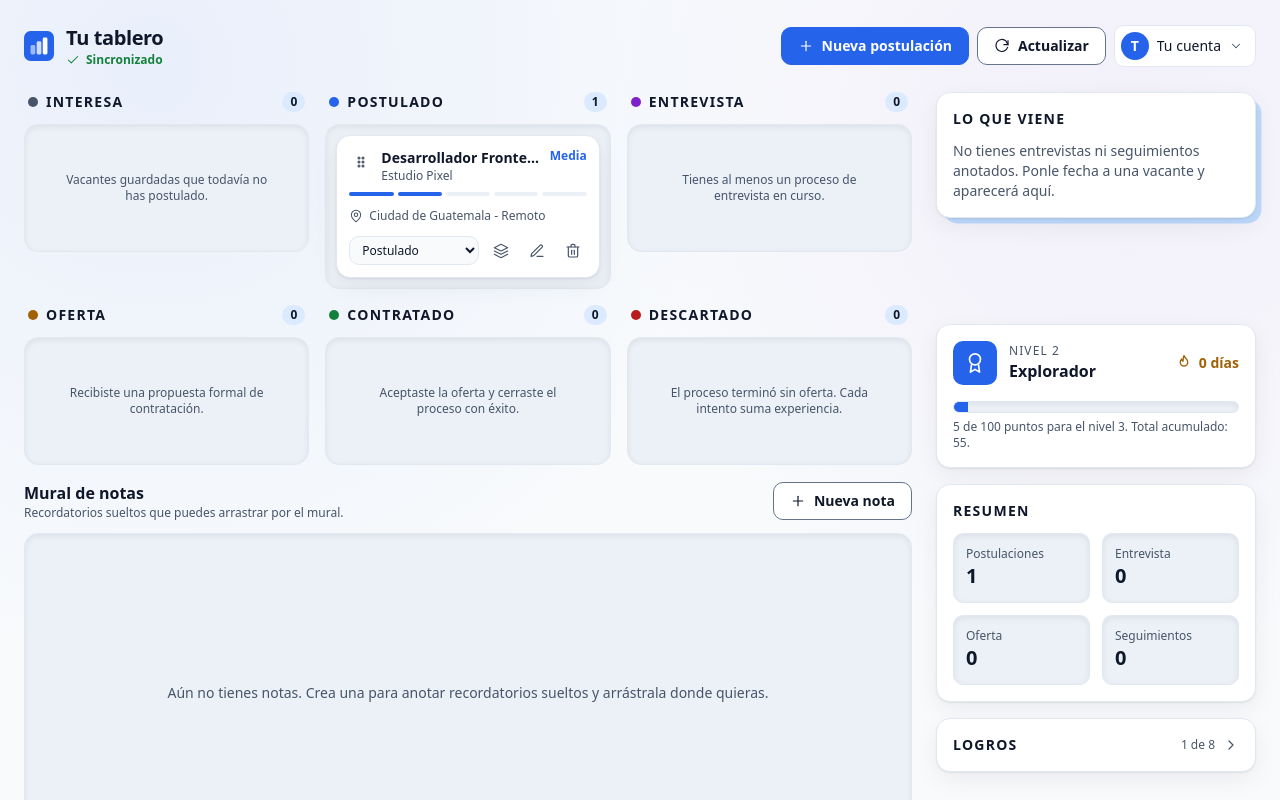
it: BoardWorkspace (integracion) › crea una nota en el mural y la muestra
Check: the heading "Desarrollador Frontend" is shown, box [381,148,542,168]
Check: the text "Aún no tienes notas" is shown, box [168,683,768,702]
Click the button "Nueva nota". click: (842, 501)
box: [773,482,912,520]
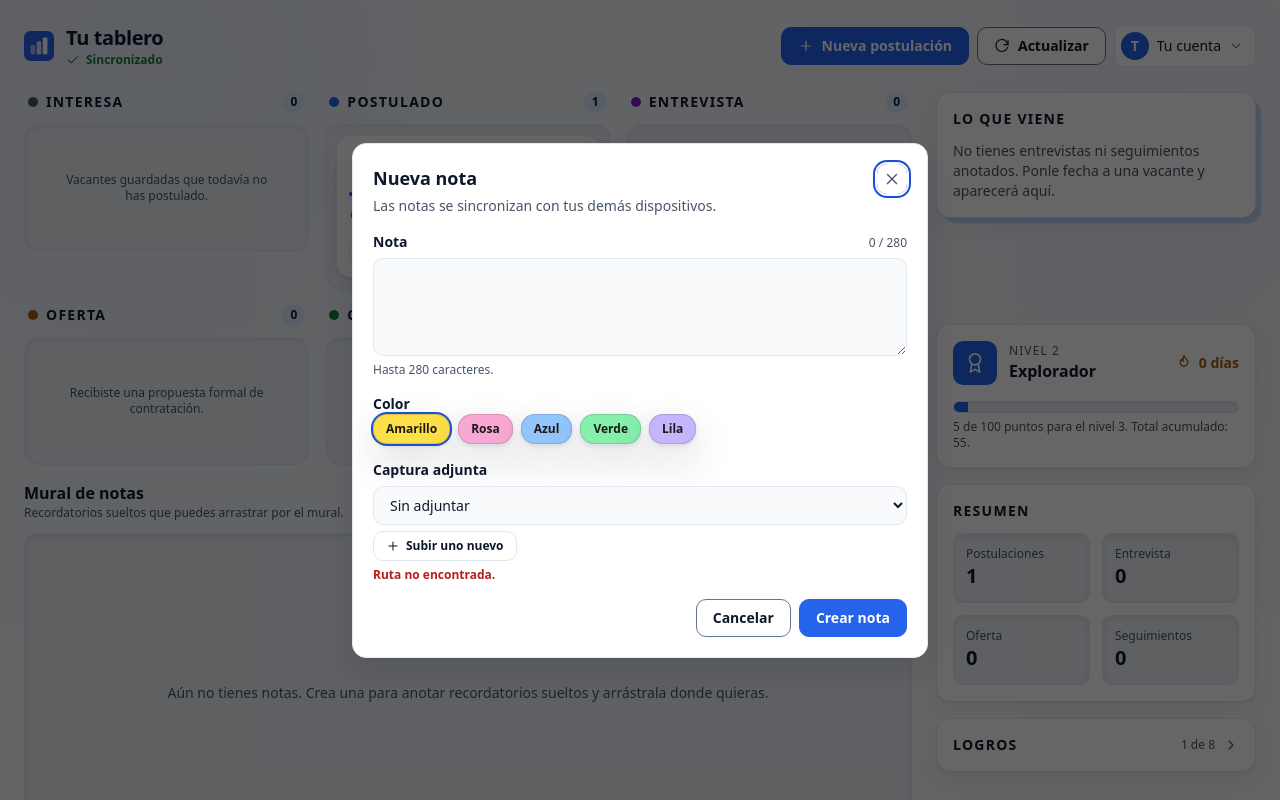
Type "Preparar portafolio" into the text box labelled "Nota". click: (640, 306)
box: [373,258,907,356]
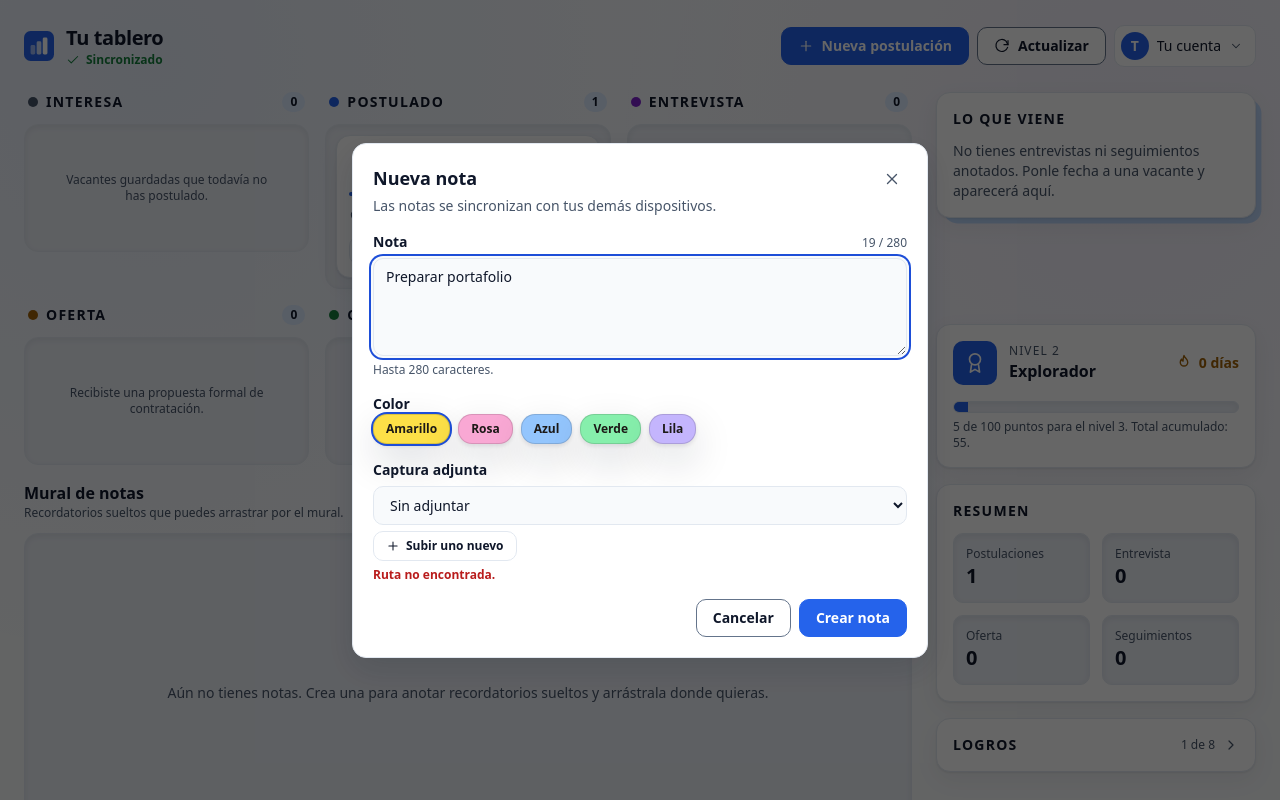
Click the button "Crear nota". click: (853, 618)
box: [799,598,907,636]
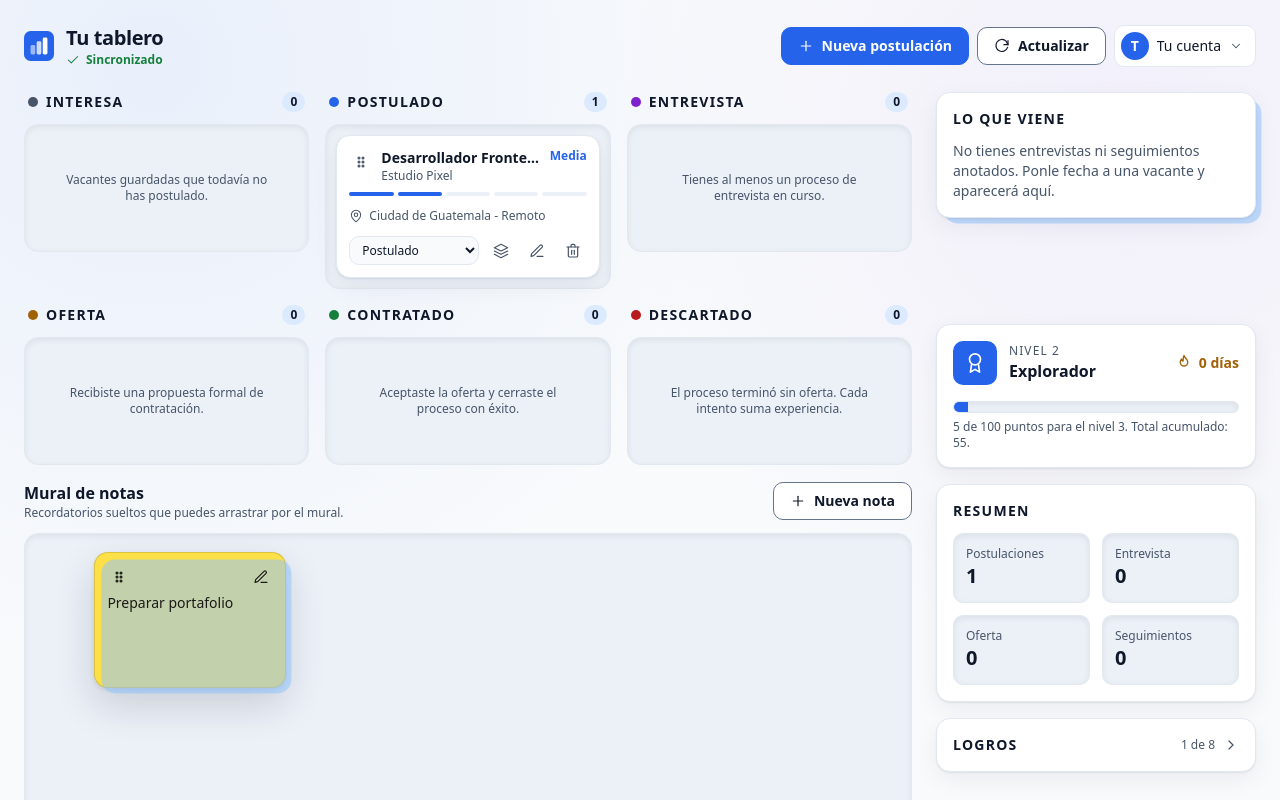
Check: the element "Preparar portafolio" is shown, box [94,552,286,688]
